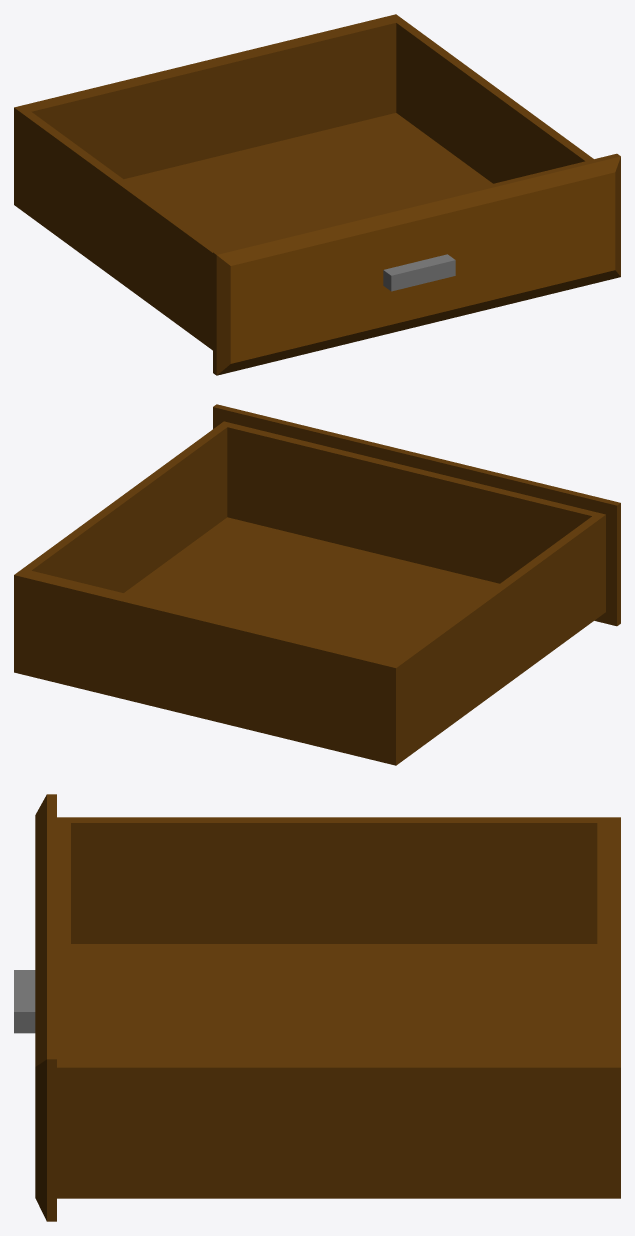
File: Cupboard_1_Draw.fbx
The picture shows the model from 3 angles, top to bottom: view 1: azimuth 30°, elevation 25°; view 2: azimuth 150°, elevation 25°; view 3: azimuth 270°, elevation 25°; orthographic projection. The views are drawn at different scales.
Parts seen in each view (by area): view 1: Cube.174; view 2: Cube.174; view 3: Cube.174.
Boxes of the visible parts, x1,y1,x2,y2 form: Cube.174: (14, 14, 620, 375); Cube.174: (14, 404, 620, 765); Cube.174: (14, 794, 620, 1221).
Size of the model in its own units: 94.06 by 26.84 by 91.07.
